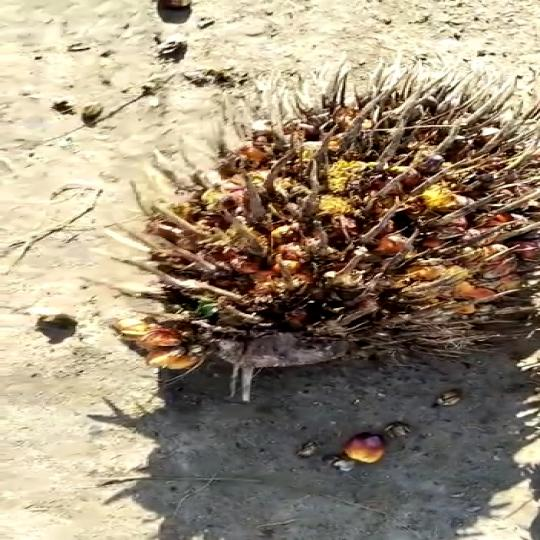terlalu masak: (59, 60, 540, 431)
